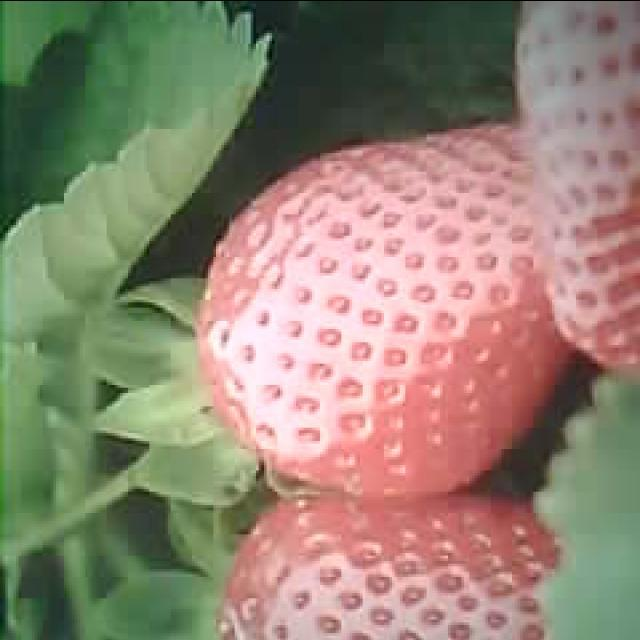ripe: (200, 121, 560, 494)
